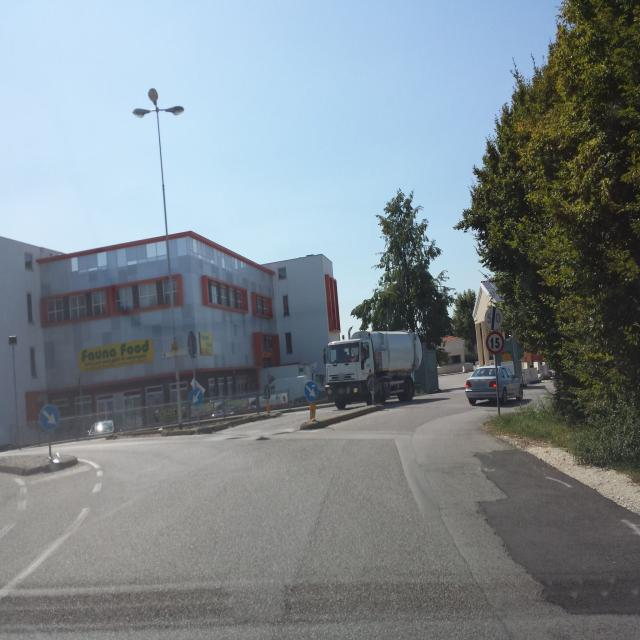car: (464, 364, 524, 406)
